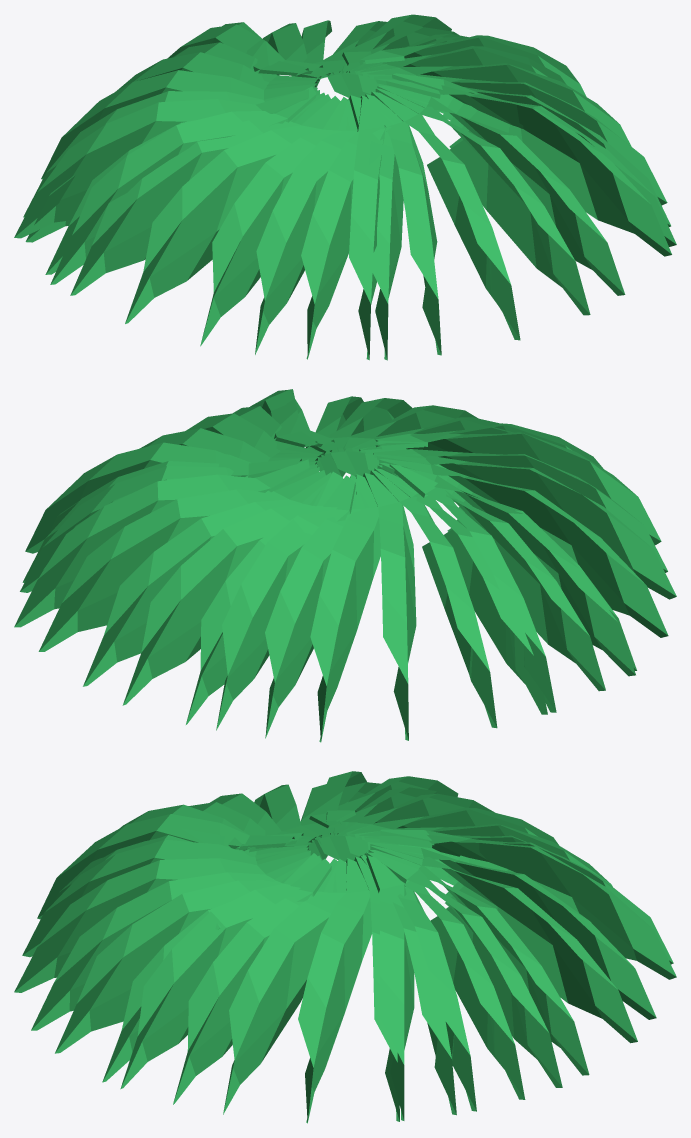
Rendered from (Leaves).fbx.
3 views of the same model, one above another, from view 1: azimuth 30°, elevation 25°; view 2: azimuth 150°, elevation 25°; view 3: azimuth 270°, elevation 25° (orthographic).
Visible parts, largest first — view 1: Lemon.005, Lemon.004, Lemon.003, Lemon.006, Lemon.002; view 2: Lemon.006, Lemon.002, Lemon.005, Lemon.003, Lemon.004; view 3: Lemon.003, Lemon.004, Lemon.002, Lemon.006, Lemon.005.
Boxes of the visible parts, x1,y1,x2,y2 form: Lemon.005: [14, 89, 385, 360]; Lemon.004: [301, 80, 676, 360]; Lemon.003: [342, 14, 671, 256]; Lemon.006: [23, 22, 319, 284]; Lemon.002: [167, 20, 586, 97]; Lemon.006: [186, 464, 635, 742]; Lemon.002: [20, 442, 343, 730]; Lemon.005: [373, 423, 676, 712]; Lemon.003: [14, 389, 324, 627]; Lemon.004: [250, 389, 661, 545]; Lemon.003: [102, 852, 562, 1123]; Lemon.004: [14, 804, 321, 1089]; Lemon.002: [361, 835, 673, 1120]; Lemon.006: [309, 771, 676, 979]; Lemon.005: [37, 776, 458, 919].
Size of the model in its own units: 0.2261 by 0.0555 by 0.2244.
